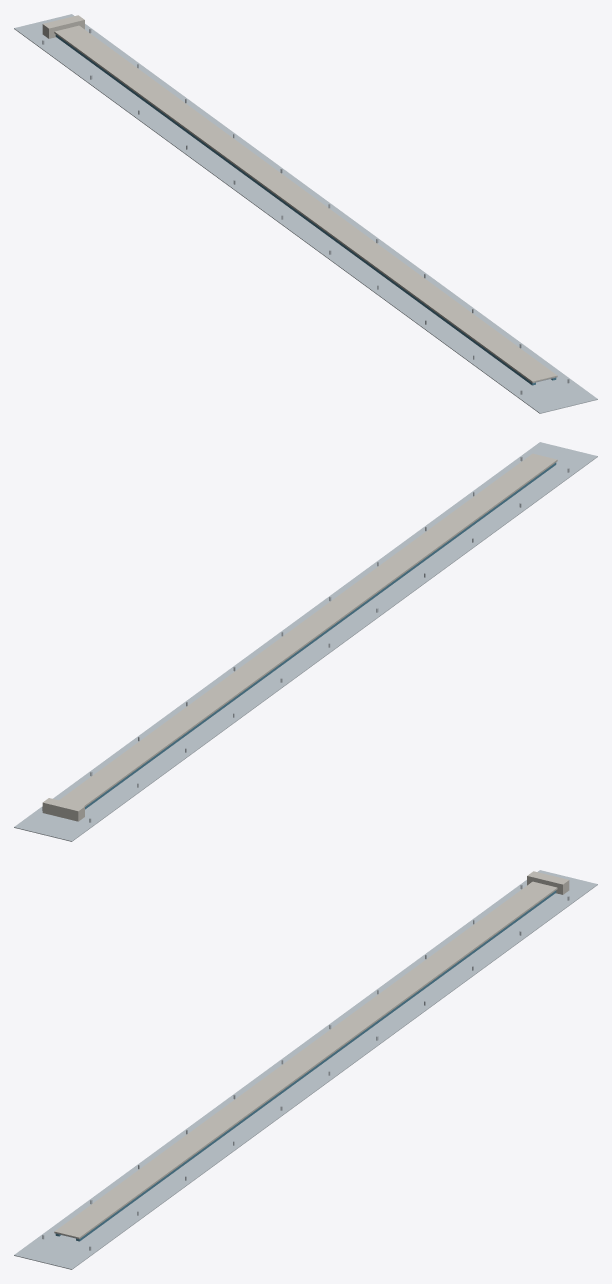
Rendered from approach_rail.glb.
3 renders of one model, top to bottom at view 1: azimuth 30°, elevation 25°; view 2: azimuth 150°, elevation 25°; view 3: azimuth 330°, elevation 25°, orthographic.
Parts seen in each view (by area): view 1: approach_rail; view 2: approach_rail; view 3: approach_rail.
Part boxes in pixels (x1,y1,x2,y2): approach_rail: (14, 14, 597, 413); approach_rail: (14, 442, 597, 841); approach_rail: (14, 870, 597, 1269).
Size of the model in its own units: 0.0636 by 0.0158 by 1.
